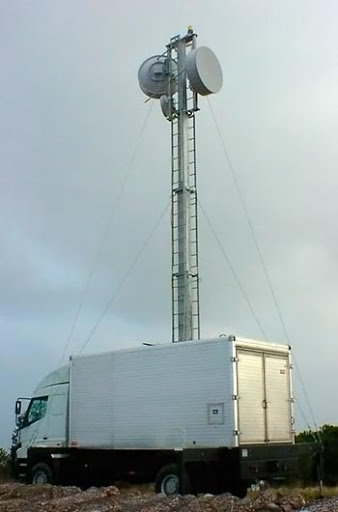b: (186, 47, 224, 96), (140, 56, 179, 95)
